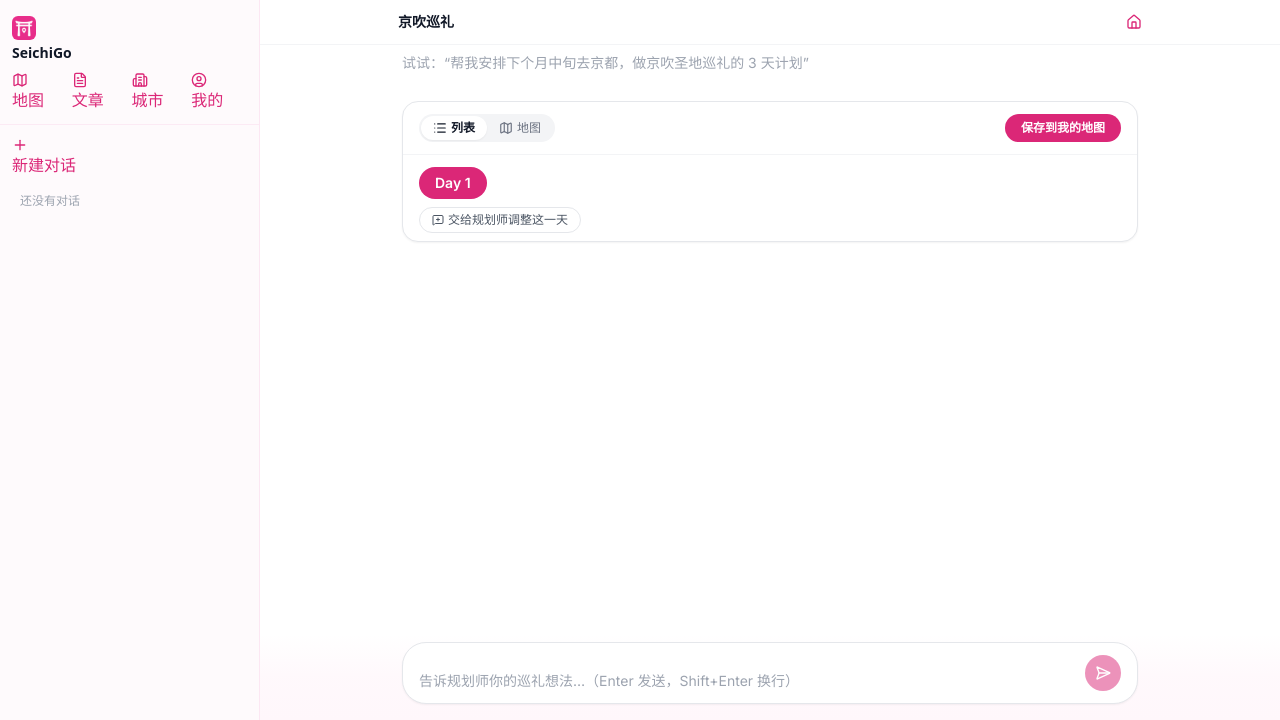
Test case: PlanPlanner 断线恢复与运行状态 › 读流中断进入恢复轮询：横幅出现、已渲染聊天与思维链保留、轮询补齐服务端条目后恢复输入
This screenshot has width=1280, height=720.
Type "继续" into the text box with placeholder "告诉规划师你的巡礼想法…（Enter 发送，Shift+Enter 换行）" at {"x": 748, "y": 681}, box [419,671,1077,691]
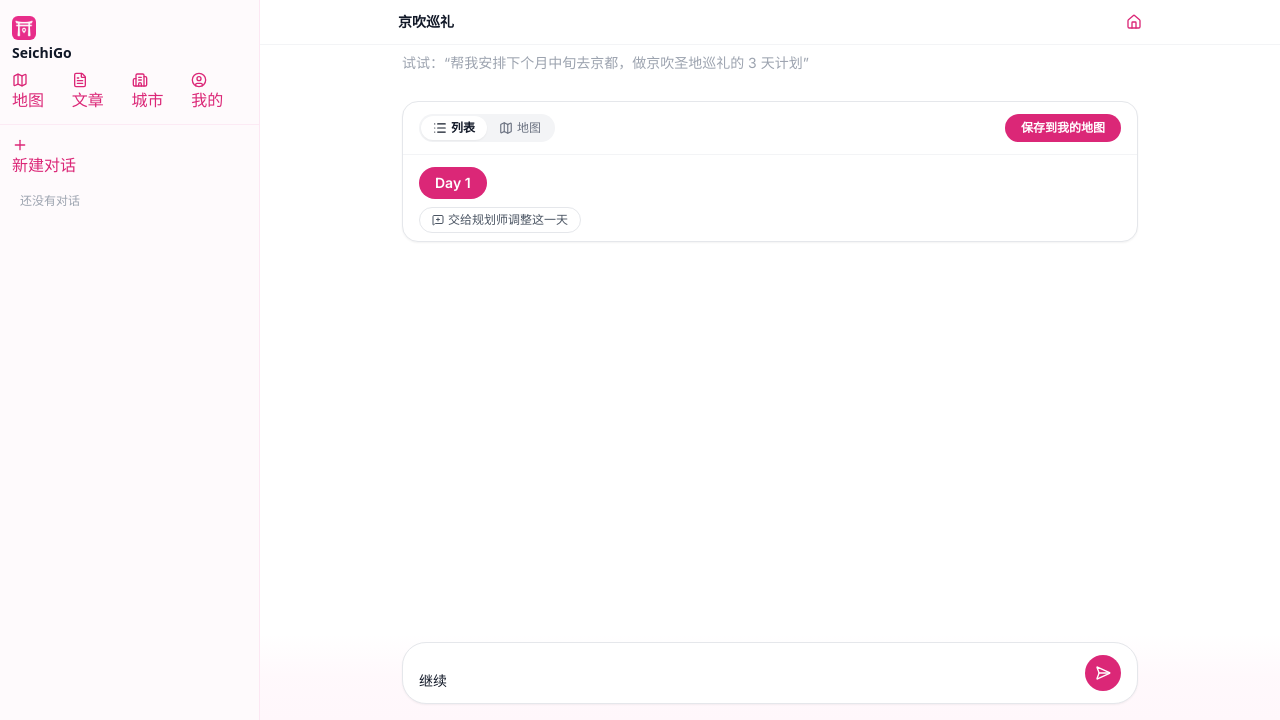
Click the button named "发送" at {"x": 1103, "y": 673}, box [1085,655,1121,691]
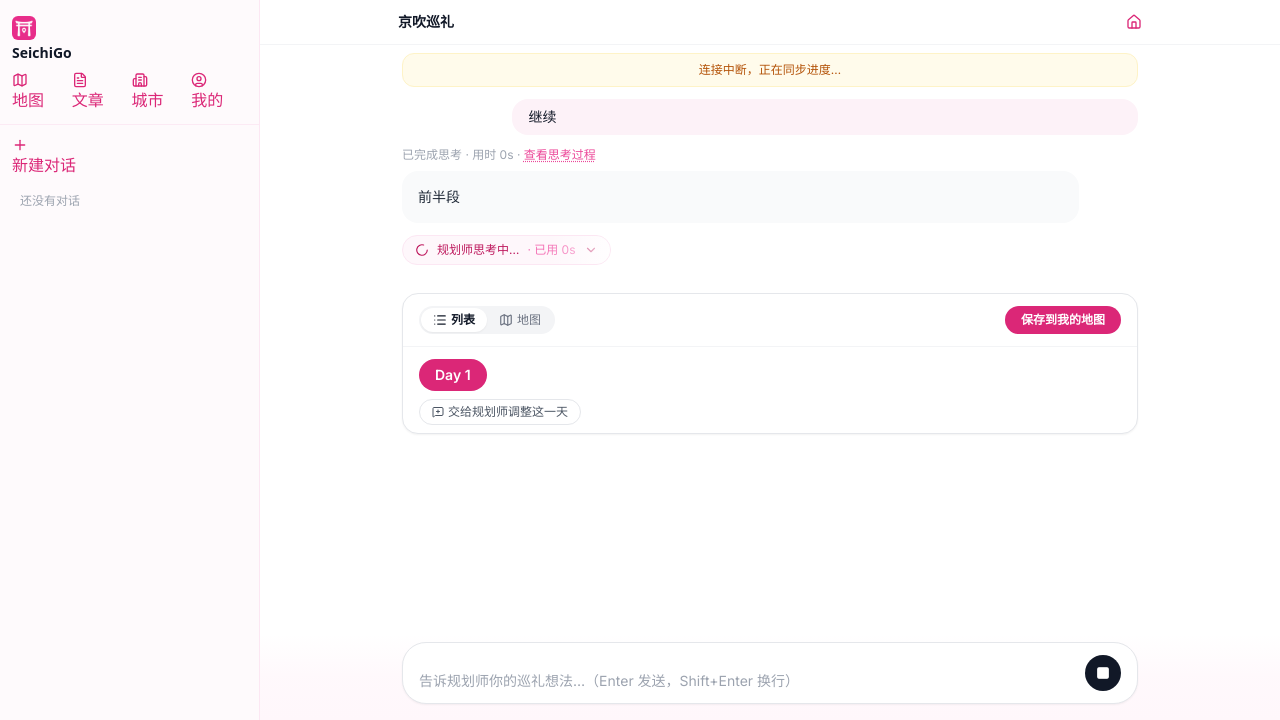
Expected: the text "连接中断，正在同步进度…" is shown, [402,53,1138,87]
Expected: the text "前半段" is shown, [418,188,460,205]
Expected: the button "查看思考过程" is shown, [524,147,596,163]
Type "还在跑吗" into the text box with placeholder "告诉规划师你的巡礼想法…（Enter 发送，Shift+Enter 换行）" at {"x": 748, "y": 681}, box [419,671,1077,691]
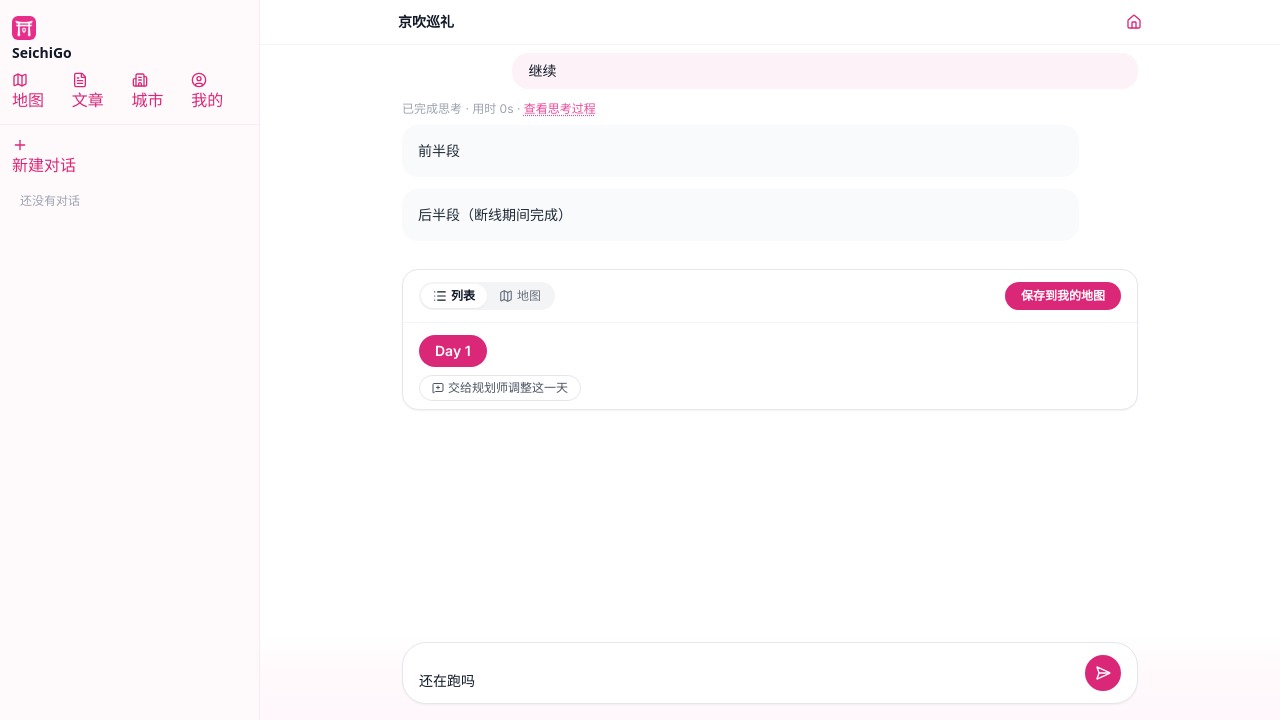
Expected: the text "后半段（断线期间完成）" is shown, [418,206,572,223]
Expected: the text "连接中断，正在同步进度…" is gone
Expected: the text "前半段" is shown once, [418,142,460,159]
